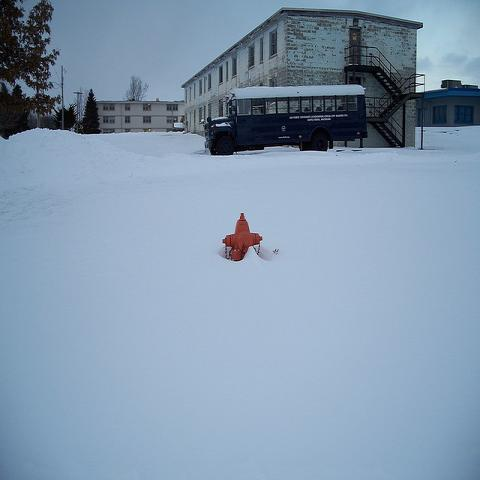bus: (203, 84, 368, 155)
